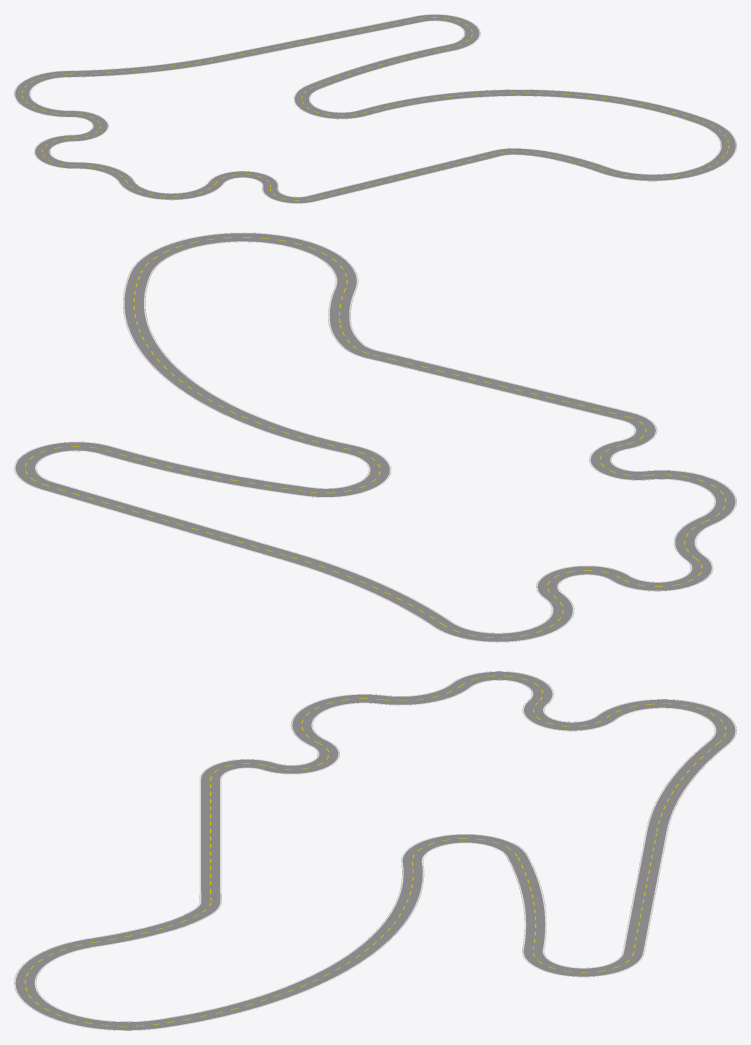
The model's file is track4.fbx.
3 views of the same model, one above another, from view 1: azimuth 30°, elevation 25°; view 2: azimuth 150°, elevation 25°; view 3: azimuth 270°, elevation 25° (orthographic). The views are drawn at different scales.
Visible parts, largest first — view 1: road_arc_84, road_arc_85, road_straight_80, road_straight_68, road_arc_98, road_arc_82, road_arc_95, road_arc_71, road_arc_81, road_arc_83, road_arc_99, road_arc_93 (+4 smaller); view 2: road_arc_84, road_arc_85, road_straight_80, road_straight_68, road_arc_82, road_arc_98, road_arc_95, road_arc_71, road_arc_81, road_arc_83, road_arc_99, road_arc_93 (+4 smaller); view 3: road_arc_84, road_arc_85, road_straight_80, road_straight_68, road_arc_98, road_arc_82, road_arc_95, road_arc_71, road_arc_83, road_arc_81, road_arc_99, road_arc_93 (+4 smaller).
Boxes of the visible parts, x1=… form: road_arc_84: x1=359, y1=89, x2=707, y2=123; road_arc_85: x1=599, y1=119, x2=736, y2=181; road_straight_80: x1=225, y1=16, x2=421, y2=60; road_straight_68: x1=307, y1=154, x2=486, y2=201; road_arc_98: x1=67, y1=54, x2=231, y2=77; road_arc_82: x1=309, y1=44, x2=454, y2=89; road_arc_95: x1=14, y1=70, x2=70, y2=117; road_arc_71: x1=119, y1=181, x2=223, y2=200; road_arc_81: x1=416, y1=14, x2=480, y2=50; road_arc_83: x1=293, y1=84, x2=367, y2=119; road_arc_99: x1=34, y1=134, x2=75, y2=168; road_arc_93: x1=70, y1=110, x2=108, y2=141; road_arc_84: x1=123, y1=272, x2=354, y2=453; road_arc_85: x1=130, y1=232, x2=358, y2=290; road_straight_80: x1=41, y1=482, x2=292, y2=559; road_straight_68: x1=386, y1=355, x2=632, y2=420; road_arc_82: x1=99, y1=446, x2=312, y2=496; road_arc_98: x1=280, y1=552, x2=452, y2=627; road_arc_95: x1=434, y1=593, x2=574, y2=642; road_arc_71: x1=645, y1=470, x2=736, y2=524; road_arc_81: x1=14, y1=441, x2=111, y2=489; road_arc_83: x1=307, y1=445, x2=391, y2=497; road_arc_99: x1=611, y1=555, x2=713, y2=591; road_arc_93: x1=536, y1=565, x2=629, y2=598; road_arc_84: x1=157, y1=862, x2=424, y2=1028; road_arc_85: x1=14, y1=938, x2=163, y2=1030; road_straight_80: x1=622, y1=833, x2=667, y2=953; road_straight_68: x1=199, y1=779, x2=221, y2=891; road_arc_98: x1=645, y1=741, x2=727, y2=833; road_arc_82: x1=506, y1=855, x2=546, y2=949; road_arc_95: x1=597, y1=699, x2=736, y2=745; road_arc_71: x1=290, y1=694, x2=384, y2=746; road_arc_83: x1=401, y1=834, x2=527, y2=862; road_arc_81: x1=522, y1=949, x2=644, y2=977; road_arc_99: x1=452, y1=671, x2=553, y2=704; road_arc_93: x1=522, y1=700, x2=615, y2=731.
Bounding box in the file's own units: 28910 × 0.00461 × 24553.
